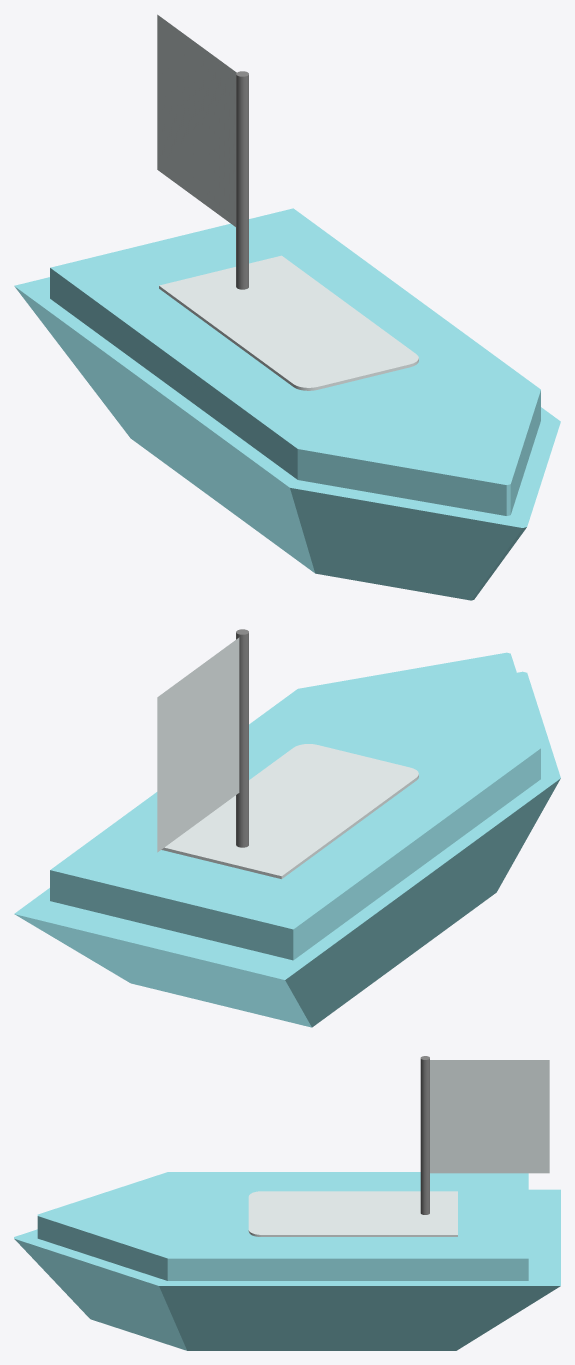
The picture shows the model from 3 angles, top to bottom: view 1: azimuth 30°, elevation 25°; view 2: azimuth 150°, elevation 25°; view 3: azimuth 270°, elevation 25°; orthographic projection. The views are drawn at different scales.
Parts seen in each view (by area): view 1: Cube.001, Cube, 立方体, 平面, 柱体; view 2: Cube.001, Cube, 立方体, 平面, 柱体; view 3: Cube.001, Cube, 平面, 立方体, 柱体.
Part boxes in pixels (box(x1,y1,x2,y2)): Cube.001: box(50, 208, 540, 515); Cube: box(14, 277, 560, 600); 立方体: box(159, 255, 418, 390); 平面: box(157, 14, 236, 226); 柱体: box(236, 71, 248, 289); Cube.001: box(50, 652, 540, 960); Cube: box(14, 671, 560, 1027); 立方体: box(161, 744, 418, 879); 平面: box(157, 637, 239, 852); 柱体: box(236, 629, 248, 847); Cube.001: box(37, 1172, 528, 1280); Cube: box(14, 1189, 560, 1350); 平面: box(430, 1060, 549, 1173); 立方体: box(248, 1191, 457, 1236); 柱体: box(420, 1056, 429, 1214).
Size of the model in its own units: 2 by 2.52 by 4.8.
